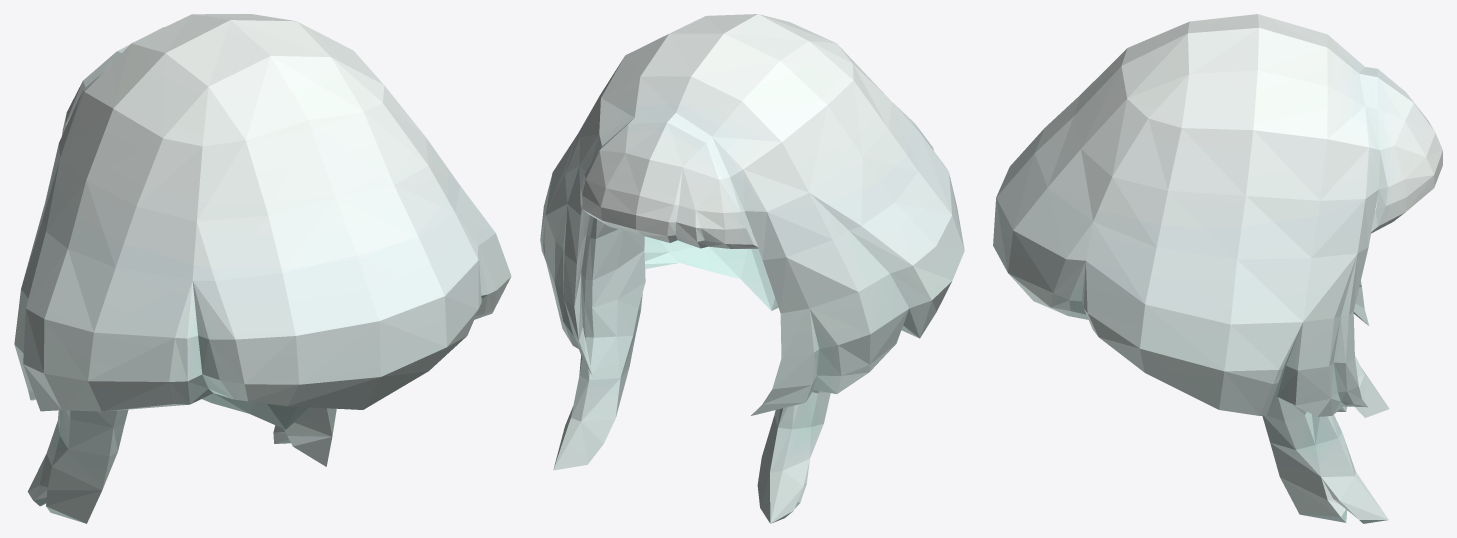
Rendered from CharSkyKid_Hair_AP16ClassicAurora.glb.
The picture shows the model from 3 angles, left to right: view 1: azimuth 30°, elevation 25°; view 2: azimuth 150°, elevation 25°; view 3: azimuth 270°, elevation 25°; orthographic projection. The views are drawn at different scales.
Parts seen in each view (by area): view 1: CharSkyKid_Hair_AP16ClassicAurora; view 2: CharSkyKid_Hair_AP16ClassicAurora; view 3: CharSkyKid_Hair_AP16ClassicAurora.
Boxes of the visible parts, x1,y1,x2,y2 form: CharSkyKid_Hair_AP16ClassicAurora: [14, 14, 511, 523]; CharSkyKid_Hair_AP16ClassicAurora: [540, 14, 964, 523]; CharSkyKid_Hair_AP16ClassicAurora: [993, 14, 1442, 523].
Bounding box in the file's own units: 3.82 × 3.94 × 3.65.
1 material, 1 textured.
